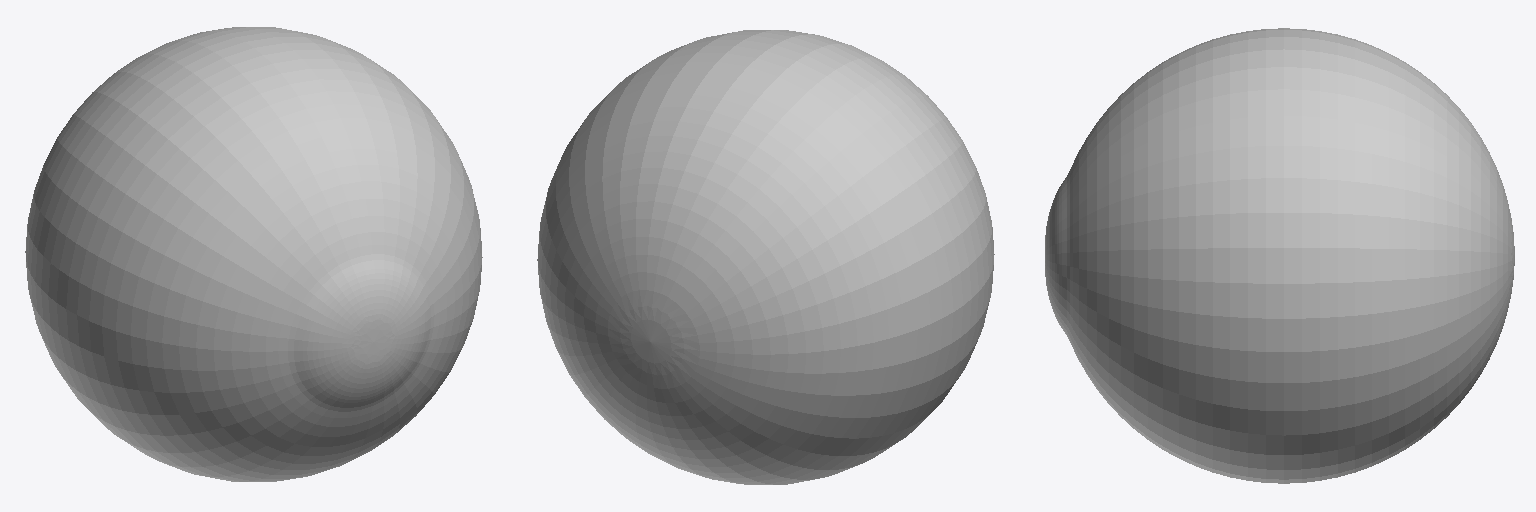
File: eye.obj
The picture shows the model from 3 angles: view 1: azimuth 30°, elevation 25°; view 2: azimuth 150°, elevation 25°; view 3: azimuth 270°, elevation 25°; orthographic projection.
Parts seen in each view (by area): view 1: eye_group_eye_clear; view 2: eye_group_eye_clear; view 3: eye_group_eye_clear.
Boxes of the visible parts, x1,y1,x2,y2 form: eye_group_eye_clear: [25, 27, 482, 481]; eye_group_eye_clear: [537, 30, 994, 484]; eye_group_eye_clear: [1045, 28, 1514, 483].
Bounding box in the file's own units: 2.85 × 2.85 × 2.94.